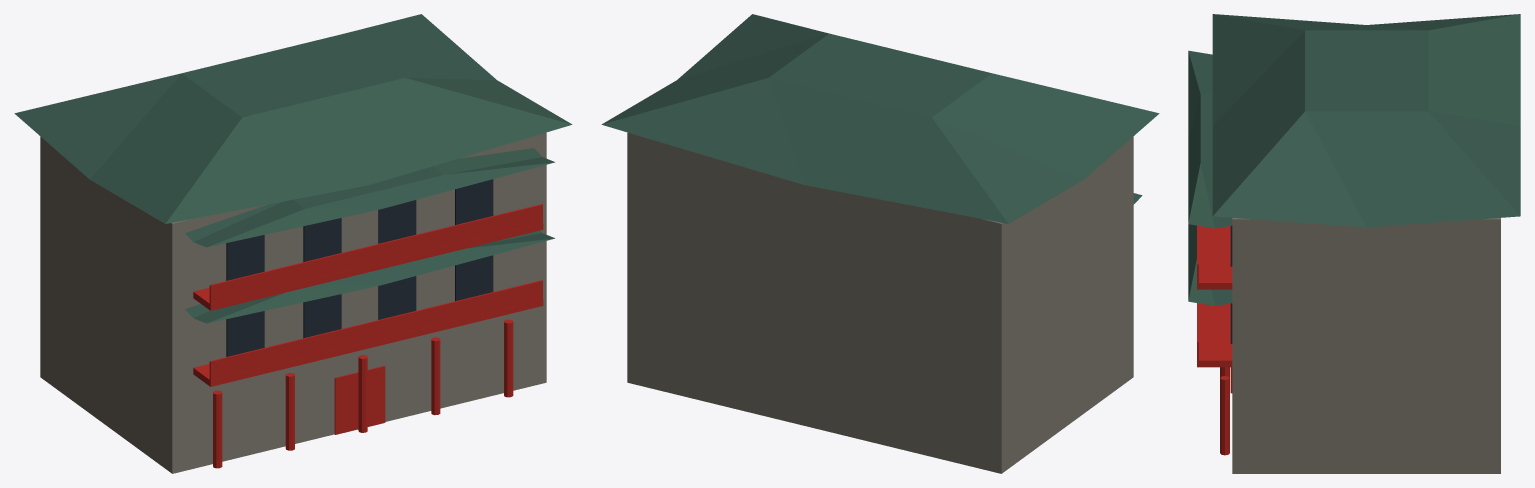
Rendered from building_westyork_s2_fusion_flats.glb.
3 renders of one model, left to right at view 1: azimuth 30°, elevation 25°; view 2: azimuth 150°, elevation 25°; view 3: azimuth 270°, elevation 25°, orthographic.
Parts seen in each view (by area): view 1: building_westyork_s2_fusion_flats; view 2: building_westyork_s2_fusion_flats; view 3: building_westyork_s2_fusion_flats.
Boxes of the visible parts, left/top/right/bottom form: building_westyork_s2_fusion_flats: left=14, top=14, right=572, bottom=473; building_westyork_s2_fusion_flats: left=601, top=14, right=1159, bottom=473; building_westyork_s2_fusion_flats: left=1188, top=14, right=1520, bottom=473.
Size of the model in its own units: 19.6 by 14 by 13.6.
Materials: 1 (1 with a texture image).
